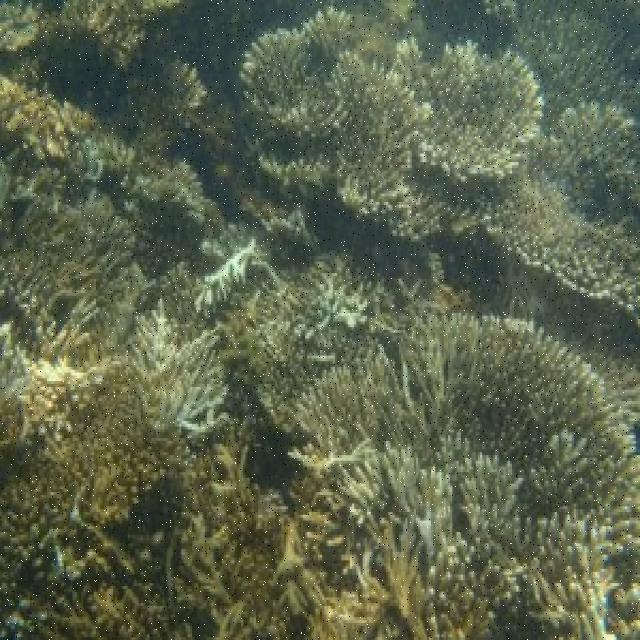Bleached: (340, 445, 523, 592), (121, 300, 237, 443), (1, 318, 102, 423), (199, 227, 270, 314), (573, 540, 629, 640), (419, 145, 529, 185), (558, 92, 640, 132), (524, 52, 554, 142), (246, 8, 312, 47), (323, 280, 369, 327), (388, 30, 423, 89), (442, 35, 498, 71), (82, 139, 106, 187), (417, 514, 440, 556)
Healthy: (1, 444, 299, 640), (1, 1, 182, 289), (425, 304, 640, 540), (415, 45, 553, 189), (328, 47, 430, 190), (529, 135, 640, 250)
